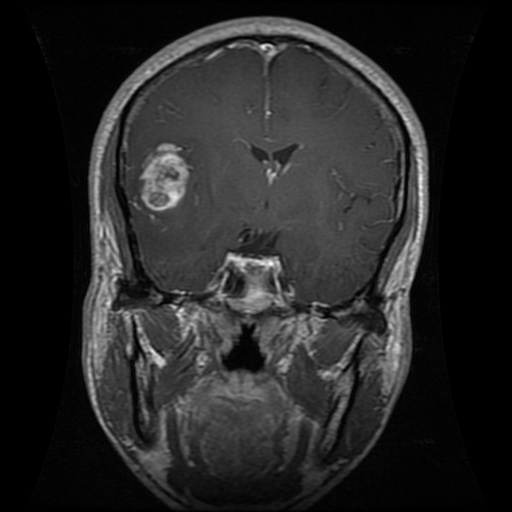glioma: (130, 138, 195, 221)
